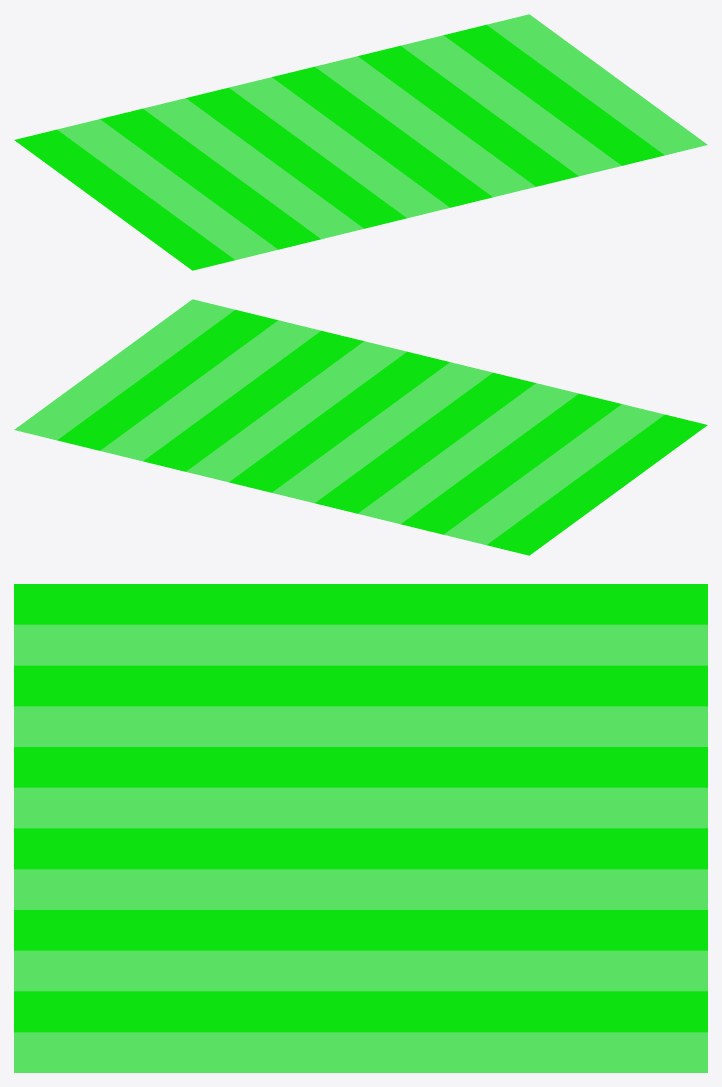
The picture shows the model from 3 angles, top to bottom: view 1: azimuth 30°, elevation 25°; view 2: azimuth 150°, elevation 25°; view 3: azimuth 270°, elevation 25°; orthographic projection. The views are drawn at different scales.
Parts seen in each view (by area): view 1: 草地; view 2: 草地; view 3: 草地.
Boxes of the visible parts, x1=… form: 草地: x1=14, y1=14, x2=707, y2=270; 草地: x1=14, y1=299, x2=707, y2=555; 草地: x1=14, y1=584, x2=707, y2=1072.
Size of the model in its own units: 100 by 0 by 60.
1 material, 1 textured.
